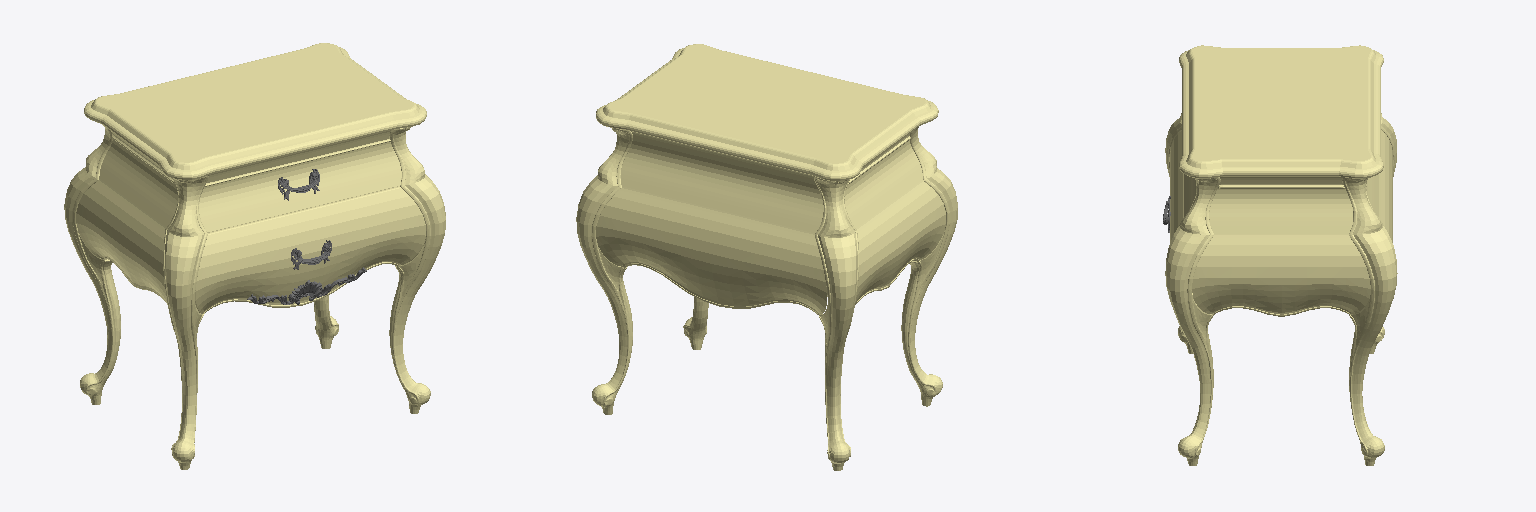
The model's file is desk08.obj.
The picture shows the model from 3 angles: view 1: azimuth 30°, elevation 25°; view 2: azimuth 150°, elevation 25°; view 3: azimuth 270°, elevation 25°; orthographic projection.
Visible parts, largest first — view 1: Object.1; view 2: Object.1; view 3: Object.1.
Part boxes in pixels (x1,y1,x2,y2): Object.1: (64,43,445,469); Object.1: (576,44,957,470); Object.1: (1163,45,1397,465).
Bounding box in the file's own units: 26.19 × 27.49 × 19.21.